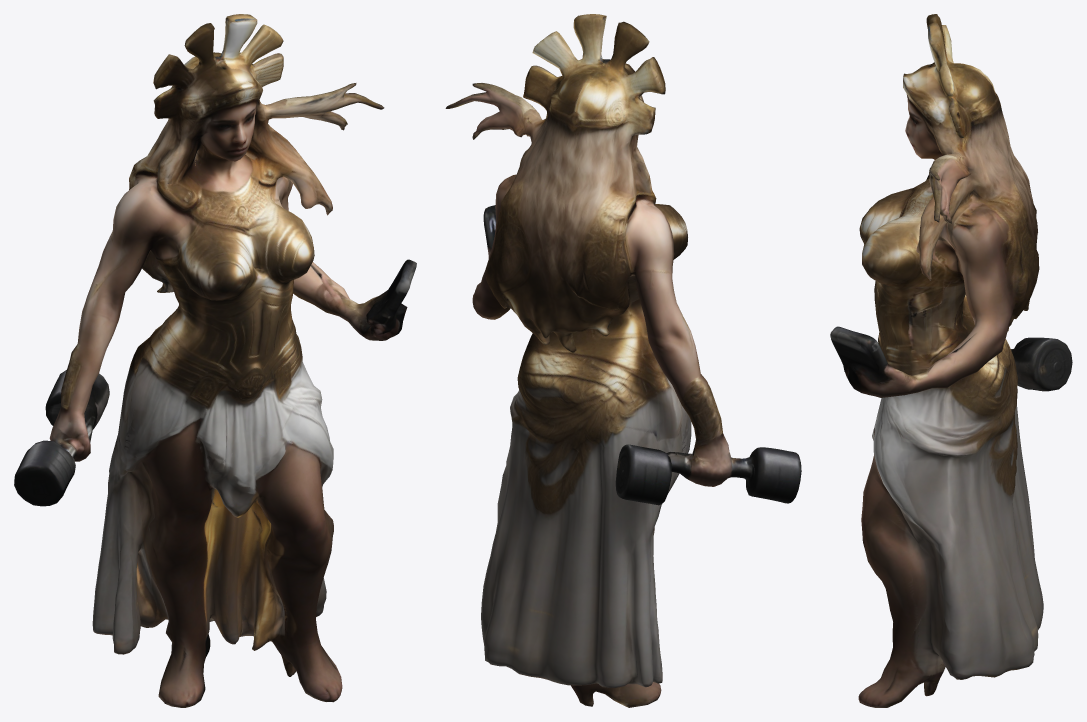
Rendered from goddess_model.glb.
3 views of the same model, side by side, from view 1: azimuth 30°, elevation 25°; view 2: azimuth 150°, elevation 25°; view 3: azimuth 270°, elevation 25° (orthographic). The views are drawn at different scales.
Size of the model in its own units: 1.13 by 2 by 0.6737.
Materials: 1 (1 with a texture image).
